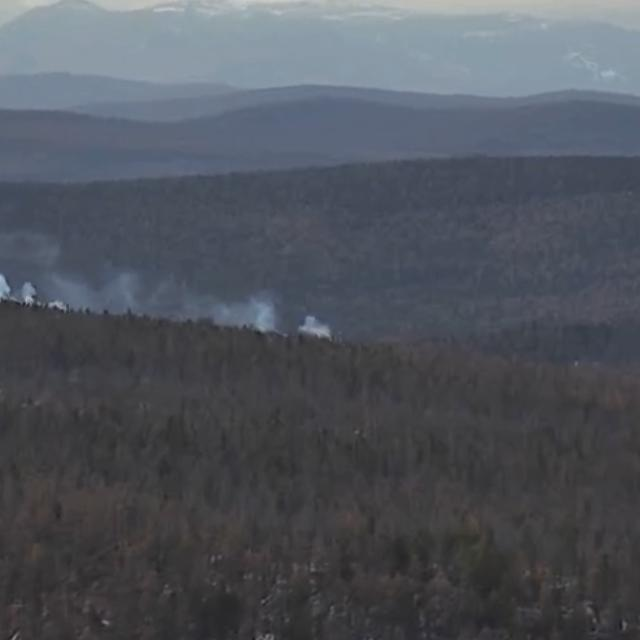Smoke: (0, 227, 333, 343)
